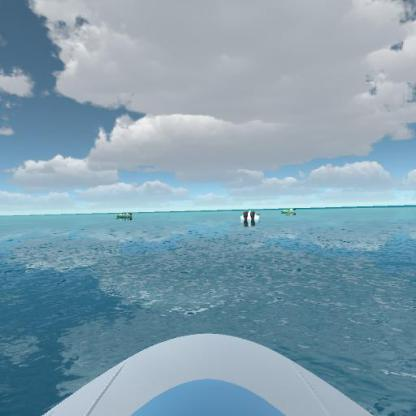usv0: (113, 208, 133, 223), (280, 207, 298, 219)
usv1: (237, 207, 262, 226)
